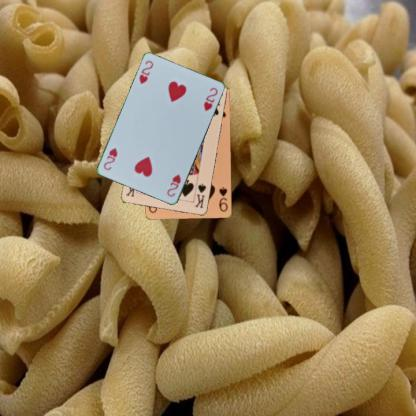2h: (136, 58, 154, 86), (165, 172, 182, 198)
9s: (217, 184, 228, 213)
Ks: (192, 181, 208, 210)
